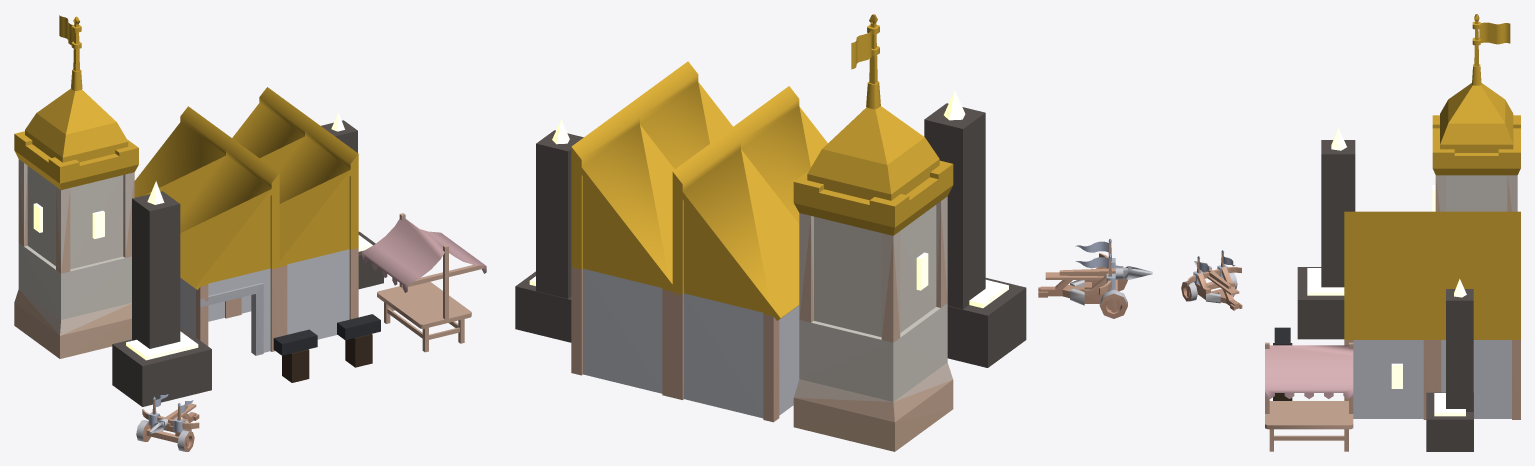
File: forge_l3.glb
3 views of the same model, side by side, from view 1: azimuth 30°, elevation 25°; view 2: azimuth 150°, elevation 25°; view 3: azimuth 270°, elevation 25° (orthographic). The views are drawn at different scales.
Visible parts, largest first — view 1: forge_l3; view 2: forge_l3; view 3: forge_l3.
Part boxes in pixels (x1,y1,x2,y2): forge_l3: [14, 15, 486, 451]; forge_l3: [515, 14, 1152, 451]; forge_l3: [1181, 14, 1520, 451].
Bounding box in the file's own units: 7.9 × 6.39 × 6.45.
